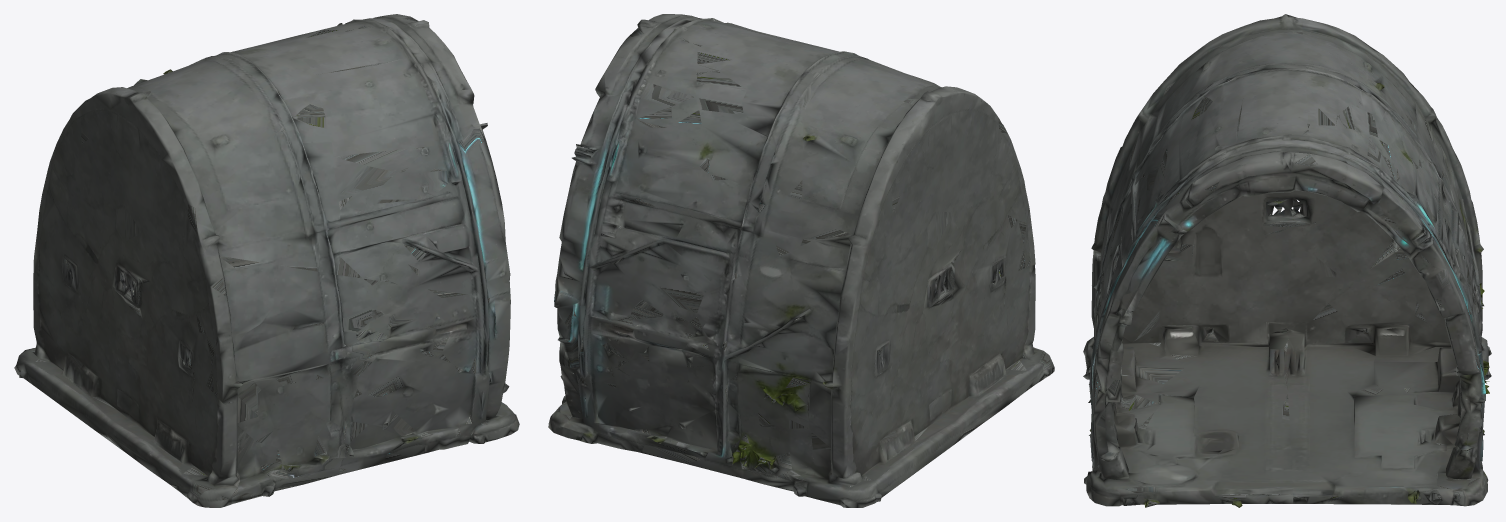
File: dome_segment.glb
3 views of the same model, side by side, from view 1: azimuth 30°, elevation 25°; view 2: azimuth 150°, elevation 25°; view 3: azimuth 270°, elevation 25° (orthographic). The views are drawn at different scales.
Parts seen in each view (by area): view 1: tripo_node_3d7606b3-13e3-4ebf-9709-630028f81694; view 2: tripo_node_3d7606b3-13e3-4ebf-9709-630028f81694; view 3: tripo_node_3d7606b3-13e3-4ebf-9709-630028f81694.
Part boxes in pixels (<box>): tripo_node_3d7606b3-13e3-4ebf-9709-630028f81694: <box>14,14,519,507</box>; tripo_node_3d7606b3-13e3-4ebf-9709-630028f81694: <box>548,14,1054,507</box>; tripo_node_3d7606b3-13e3-4ebf-9709-630028f81694: <box>1083,14,1491,507</box>.
Size of the model in its own units: 0.9523 by 0.9421 by 0.9978.
1 material, 1 textured.
